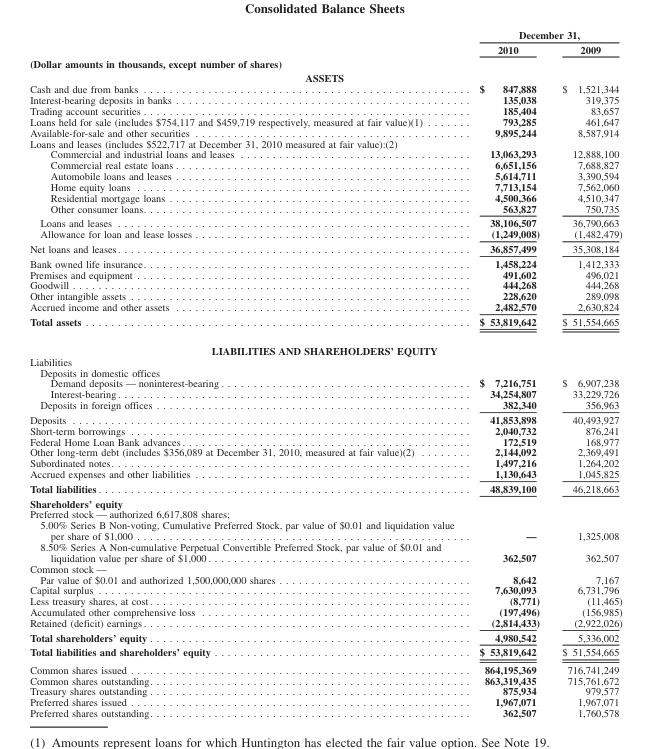table: (29, 28, 621, 718)
table column: (29, 28, 466, 718), (466, 28, 550, 718), (550, 28, 621, 718)
table column header: (29, 28, 621, 55)
table projected row header: (29, 335, 621, 355), (29, 55, 621, 70), (29, 70, 621, 83), (29, 495, 621, 508), (29, 137, 621, 148), (29, 355, 621, 366), (29, 366, 621, 377), (29, 508, 621, 519), (29, 562, 621, 573)
table row: (29, 313, 621, 335), (29, 540, 621, 562), (29, 519, 621, 540), (29, 335, 621, 355), (29, 644, 621, 660), (29, 55, 621, 70), (29, 240, 621, 255), (29, 480, 621, 495), (29, 629, 621, 644), (29, 41, 621, 55), (29, 660, 621, 674), (29, 28, 621, 41), (29, 70, 621, 83), (29, 202, 621, 215), (29, 215, 621, 228), (29, 255, 621, 268), (29, 300, 621, 313), (29, 398, 621, 411), (29, 411, 621, 424), (29, 467, 621, 480), (29, 495, 621, 508), (29, 616, 621, 629), (29, 228, 621, 240), (29, 706, 621, 718), (29, 93, 621, 104), (29, 104, 621, 115), (29, 115, 621, 126), (29, 126, 621, 137), (29, 137, 621, 148), (29, 148, 621, 159), (29, 169, 621, 180), (29, 180, 621, 191), (29, 191, 621, 202), (29, 268, 621, 279), (29, 279, 621, 290), (29, 355, 621, 366), (29, 366, 621, 377), (29, 377, 621, 388), (29, 424, 621, 435), (29, 435, 621, 446), (29, 446, 621, 457), (29, 508, 621, 519), (29, 562, 621, 573), (29, 573, 621, 584), (29, 584, 621, 595), (29, 605, 621, 616), (29, 674, 621, 685), (29, 685, 621, 696), (29, 83, 621, 93), (29, 159, 621, 169), (29, 290, 621, 300), (29, 388, 621, 398), (29, 457, 621, 467), (29, 595, 621, 605), (29, 696, 621, 706)
table spanning cell: (466, 28, 621, 41)
